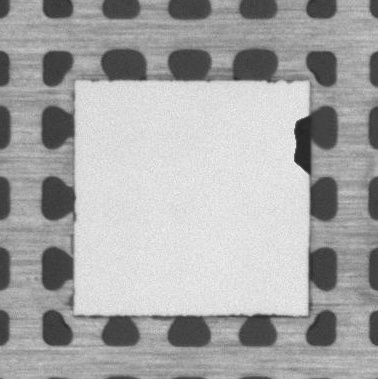DIE_BROKEN: (292, 112, 313, 173)
